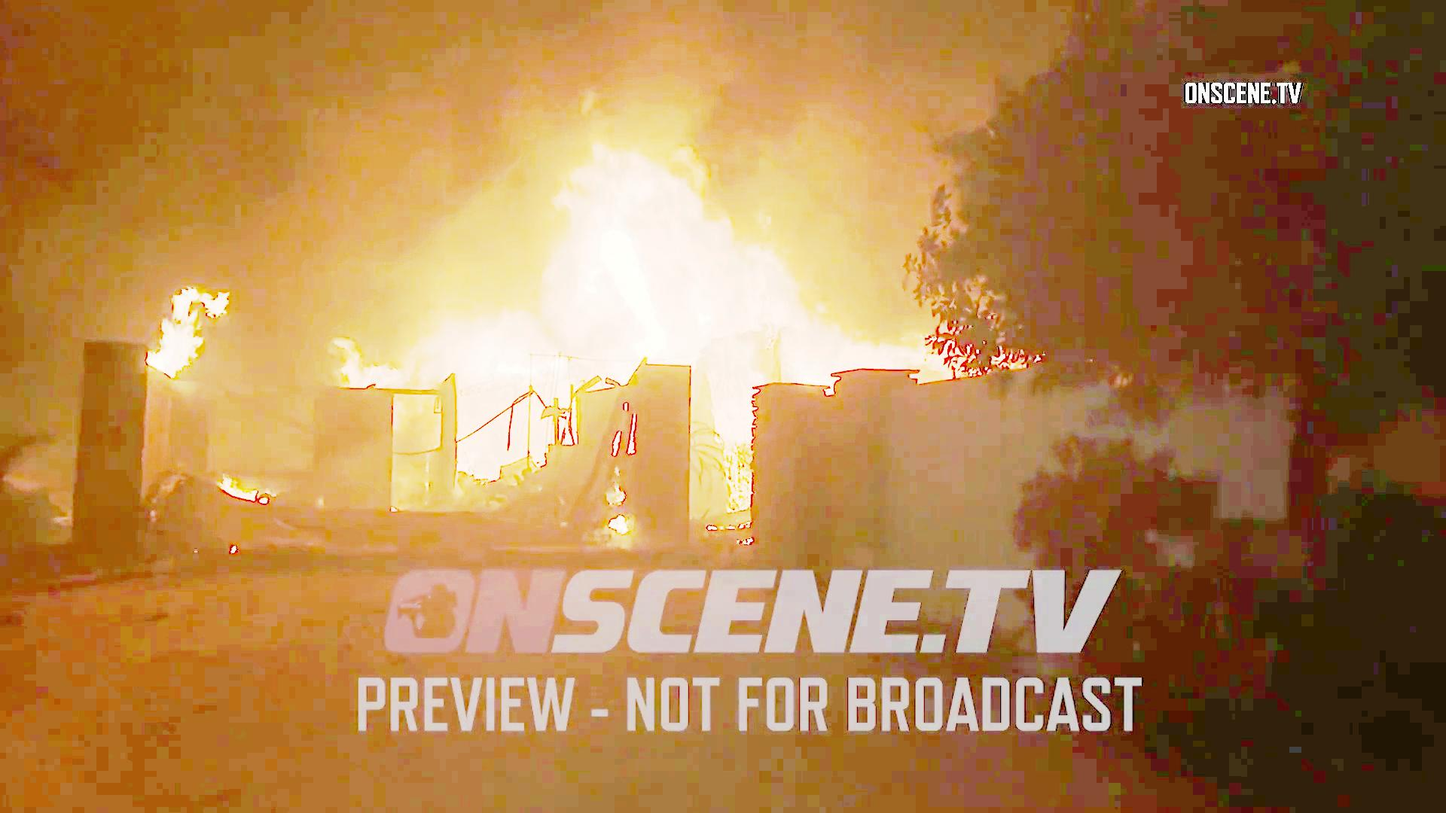fire: (546, 128, 712, 345)
